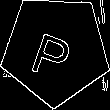P_N: (31, 20, 80, 80)
